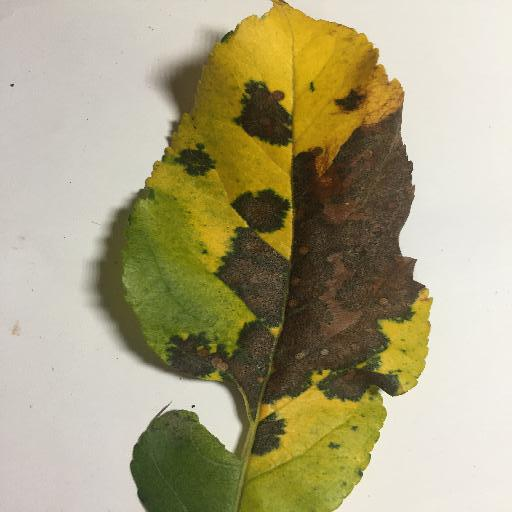Brown_Spot: (282, 122, 408, 407), (177, 322, 260, 409), (229, 232, 283, 326), (235, 82, 293, 147), (231, 186, 285, 229), (256, 416, 287, 458), (333, 78, 360, 122), (175, 149, 217, 175)
